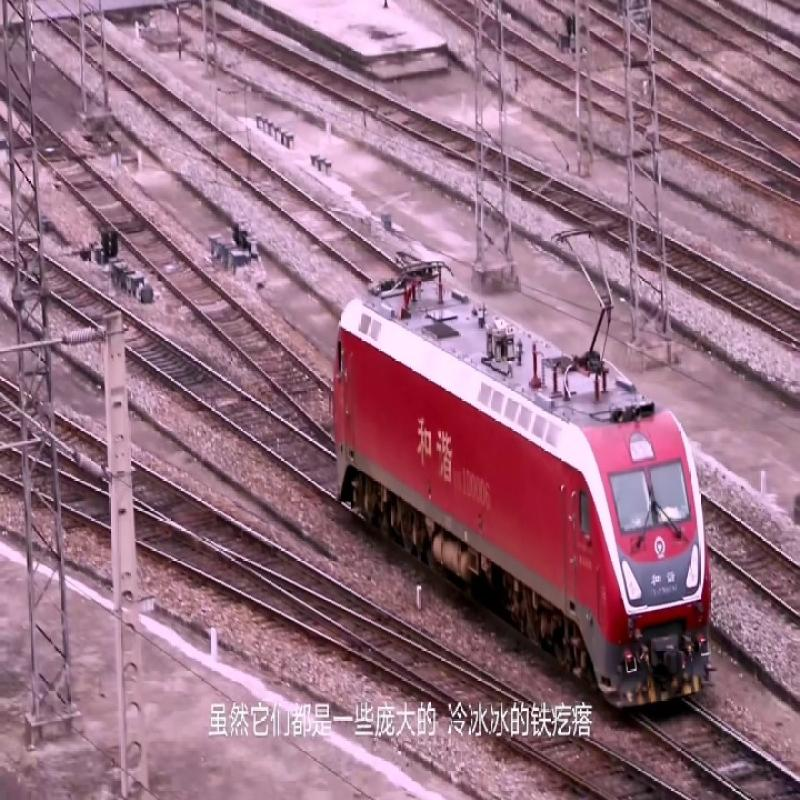train: (325, 269, 717, 703)
